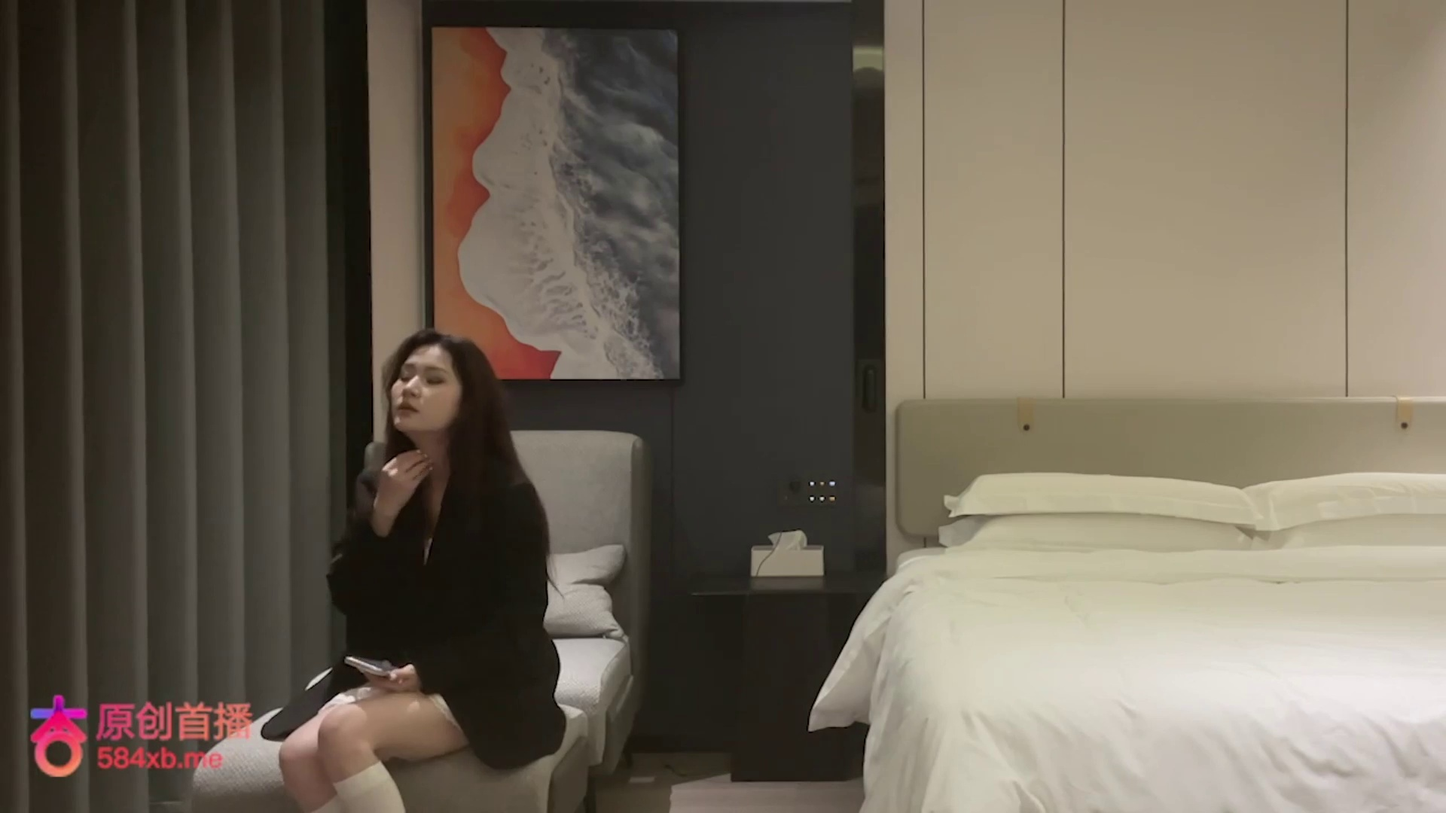sit: (276, 328, 567, 810)
